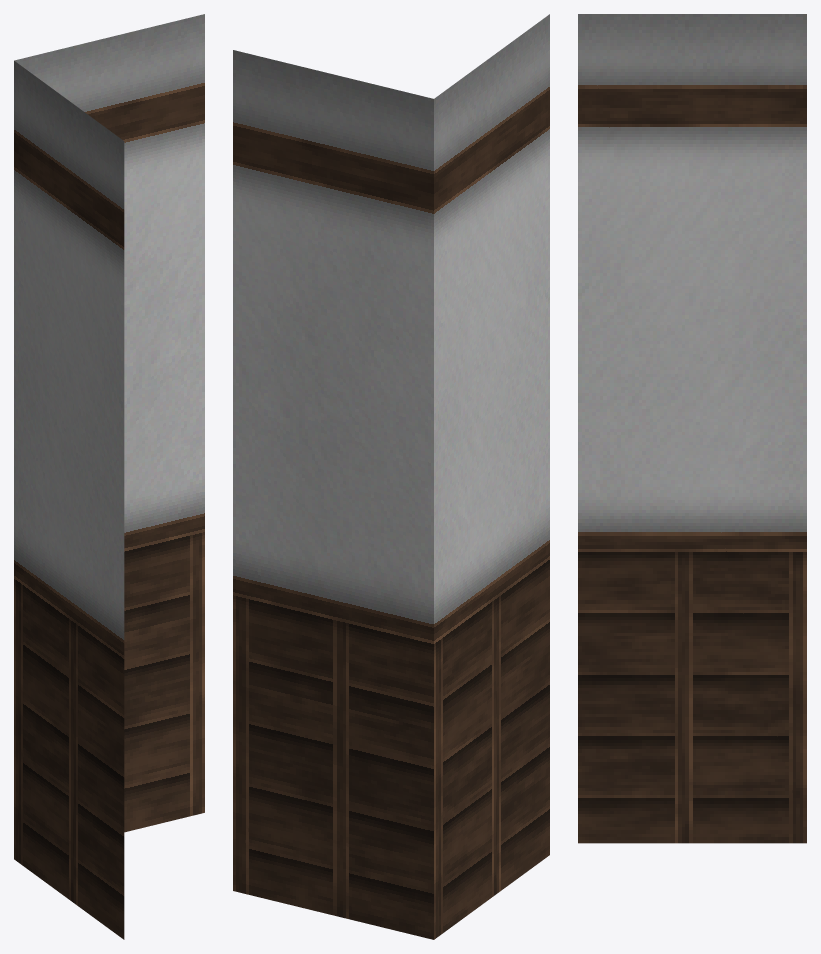
Rendered from house_inner_corner.glb.
The picture shows the model from 3 angles, left to right: view 1: azimuth 30°, elevation 25°; view 2: azimuth 150°, elevation 25°; view 3: azimuth 270°, elevation 25°; orthographic projection. The views are drawn at different scales.
Visible parts, largest first — view 1: house_inner_corner; view 2: house_inner_corner; view 3: house_inner_corner.
Part boxes in pixels (x1,y1,x2,y2): house_inner_corner: (14,14,204,939); house_inner_corner: (233,14,549,939); house_inner_corner: (578,14,806,843).
Size of the model in its own units: 1 by 4 by 1.
1 material, 1 textured.
